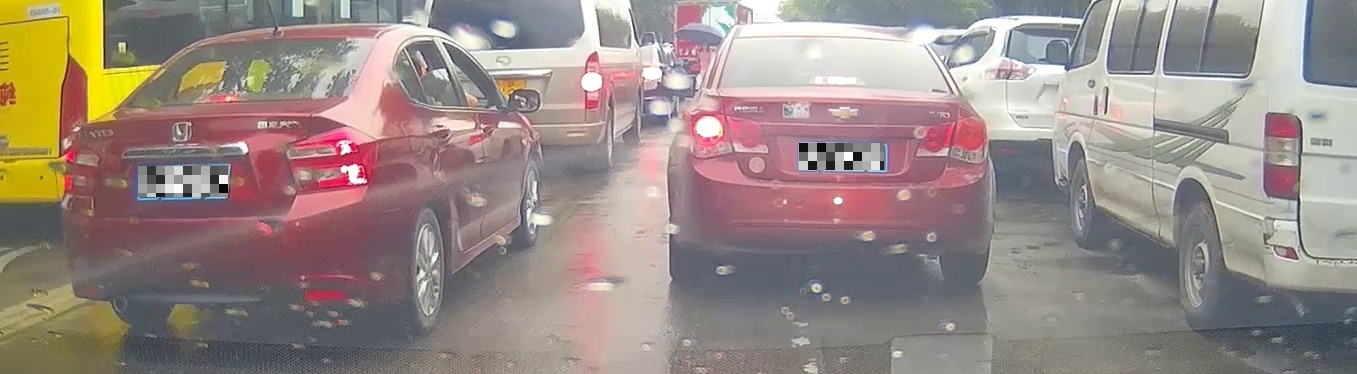L_light: (688, 108, 768, 159), (58, 137, 100, 217)
R_light: (282, 124, 379, 193), (915, 116, 988, 165)
T_light: (811, 76, 859, 85), (206, 93, 244, 101)
day-brake: (58, 26, 390, 328)
day-left: (680, 24, 990, 282)
plate_1: (138, 166, 228, 197)
plate_2: (799, 143, 884, 170)
